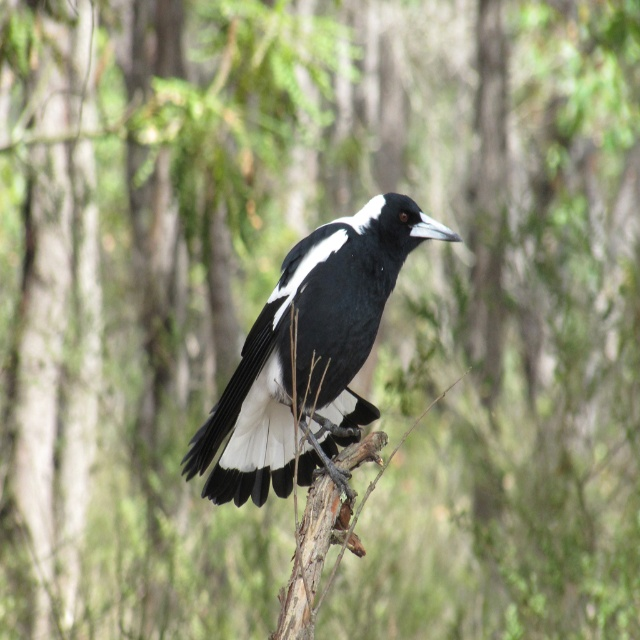Magpie: (180, 192, 464, 508)
